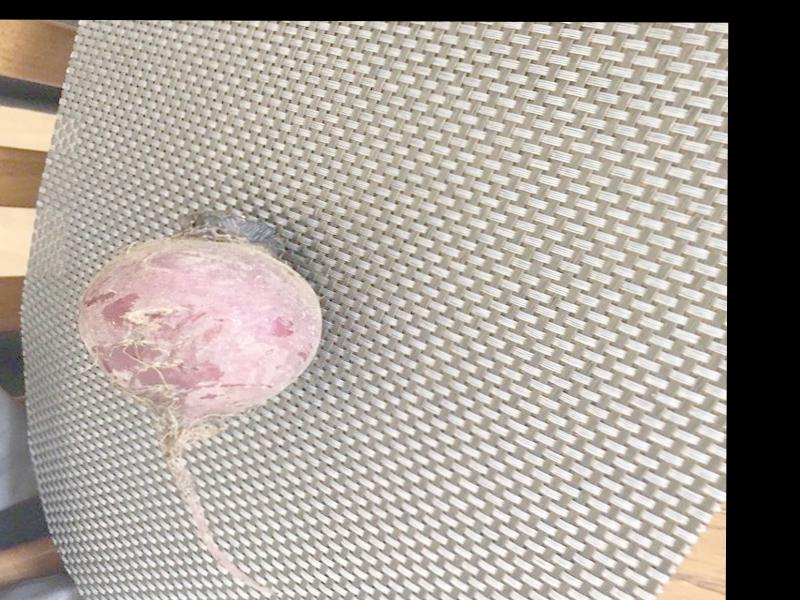Beet: (74, 205, 320, 588)
